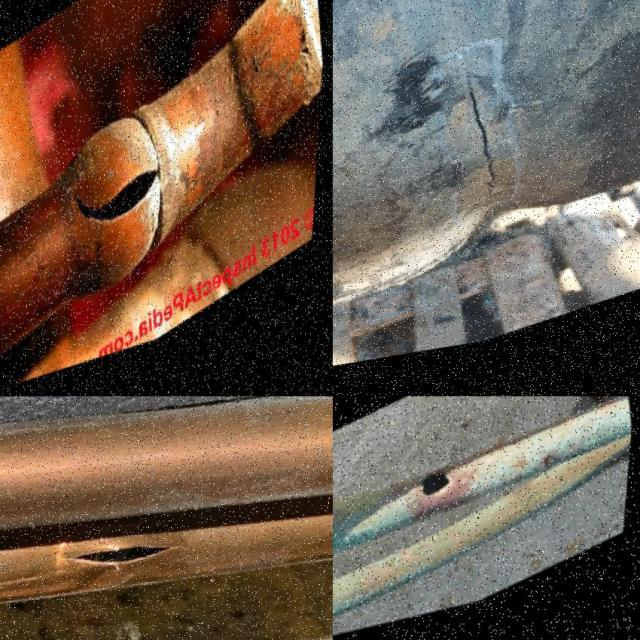crack: (463, 69, 504, 219)
hole: (416, 469, 457, 511)
rupture: (74, 151, 168, 259), (49, 535, 199, 584)
